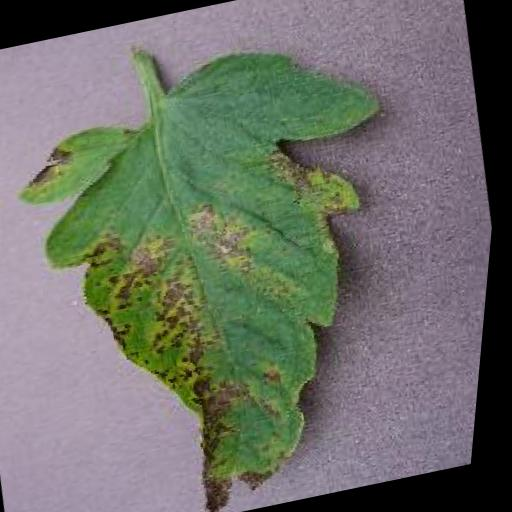Septoria: (0, 21, 474, 512)
